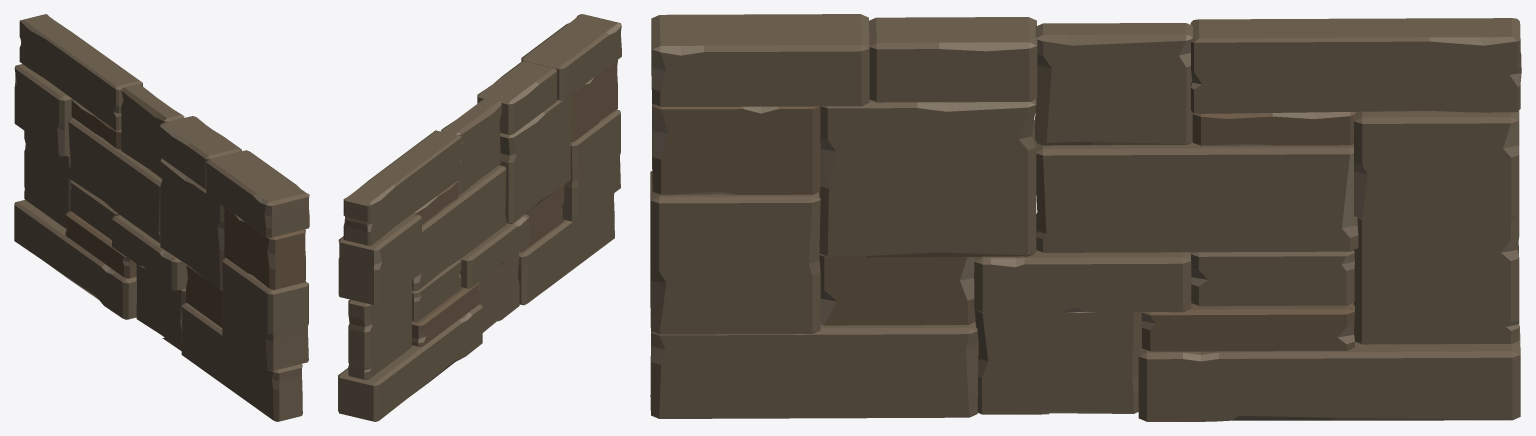
File: plaza_wall_east_2_lev3.glb
The picture shows the model from 3 angles, left to right: view 1: azimuth 30°, elevation 25°; view 2: azimuth 150°, elevation 25°; view 3: azimuth 270°, elevation 25°; orthographic projection. The views are drawn at different scales.
Parts seen in each view (by area): view 1: plaza_wall_east_2_lev3; view 2: plaza_wall_east_2_lev3; view 3: plaza_wall_east_2_lev3.
Part boxes in pixels (<box>): plaza_wall_east_2_lev3: <box>14,14,309,421</box>; plaza_wall_east_2_lev3: <box>338,14,621,421</box>; plaza_wall_east_2_lev3: <box>650,14,1521,421</box>.
Bounding box in the file's own units: 1.33 × 5.98 × 12.46.
